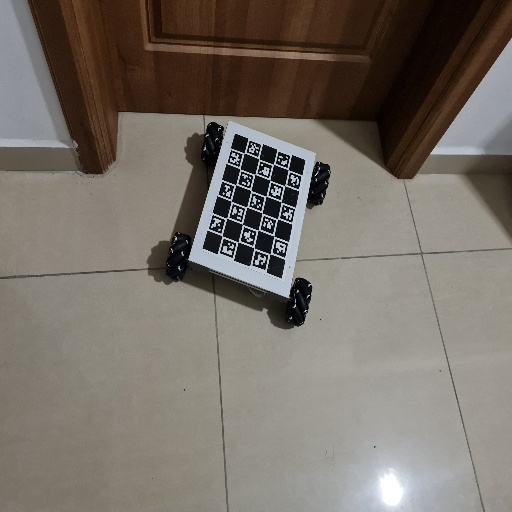Omniwheel: (165, 119, 332, 329)
